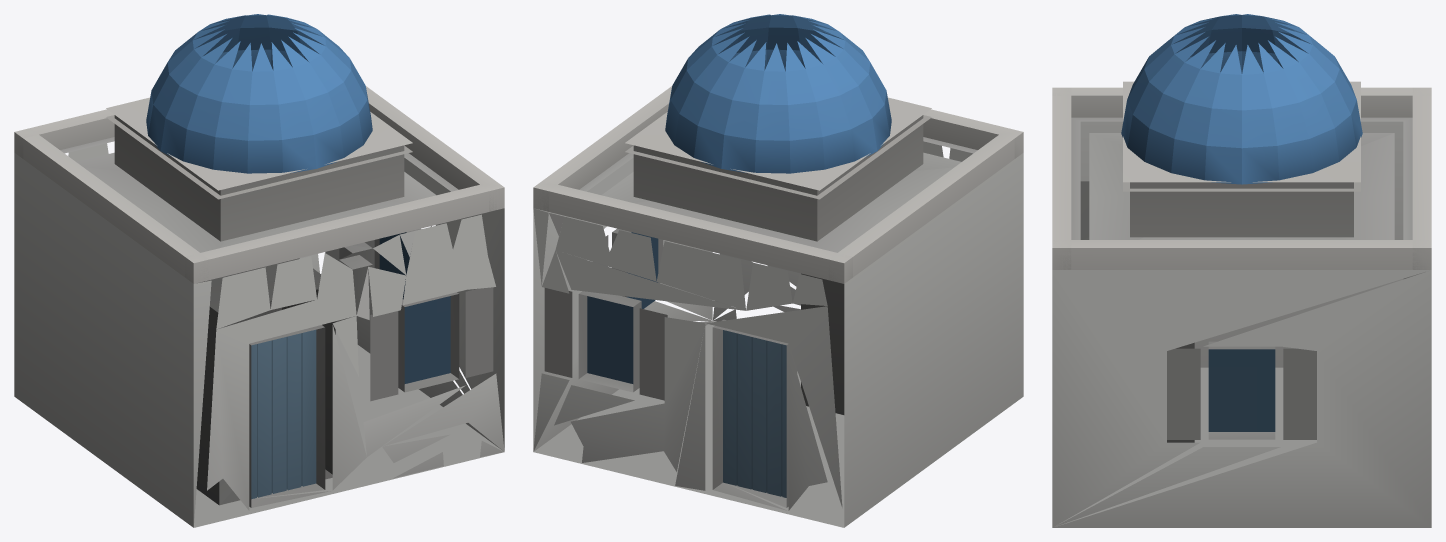
File: dome1.lod.glb
The picture shows the model from 3 angles, left to right: view 1: azimuth 30°, elevation 25°; view 2: azimuth 150°, elevation 25°; view 3: azimuth 270°, elevation 25°; orthographic projection. The views are drawn at different scales.
Parts seen in each view (by area): view 1: dome1; view 2: dome1; view 3: dome1.
Part boxes in pixels (x1,y1,x2,y2): dome1: [14, 14, 504, 527]; dome1: [533, 14, 1023, 527]; dome1: [1052, 14, 1431, 527].
Bounding box in the file's own units: 4.4 × 5.36 × 4.4.
